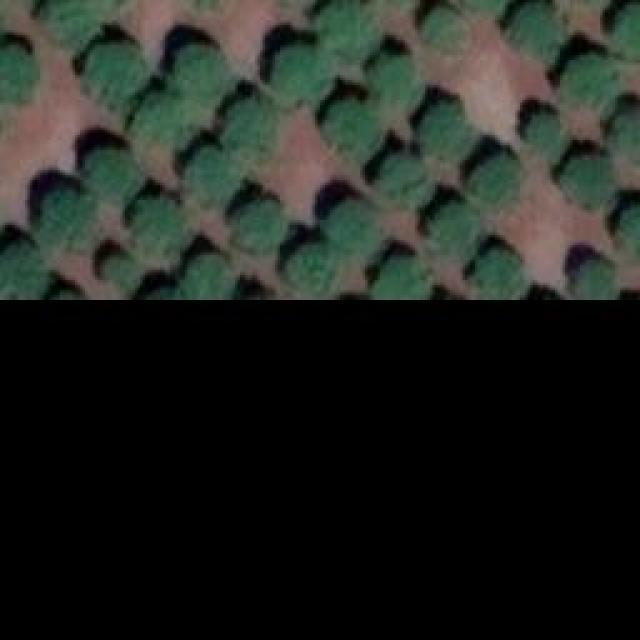Tree: (85, 43, 145, 108), (168, 48, 228, 111), (273, 45, 333, 103), (328, 98, 381, 161), (320, 0, 375, 60), (133, 95, 198, 145), (420, 102, 475, 160), (510, 0, 563, 60), (223, 100, 276, 158), (188, 147, 241, 205), (325, 200, 380, 255), (40, 193, 95, 248), (135, 198, 185, 258), (233, 198, 288, 251), (560, 55, 615, 105), (560, 158, 615, 208), (428, 203, 481, 253), (378, 155, 431, 203), (48, 0, 101, 48), (93, 150, 143, 198), (473, 253, 526, 298), (0, 242, 42, 297), (373, 258, 428, 298), (373, 55, 418, 103), (287, 248, 335, 291), (470, 155, 515, 200), (182, 258, 230, 298), (0, 45, 35, 95), (423, 8, 466, 48), (575, 263, 615, 298), (612, 110, 640, 158), (615, 5, 640, 55), (620, 208, 640, 261), (525, 115, 558, 143), (458, 0, 511, 15), (103, 258, 133, 283)
